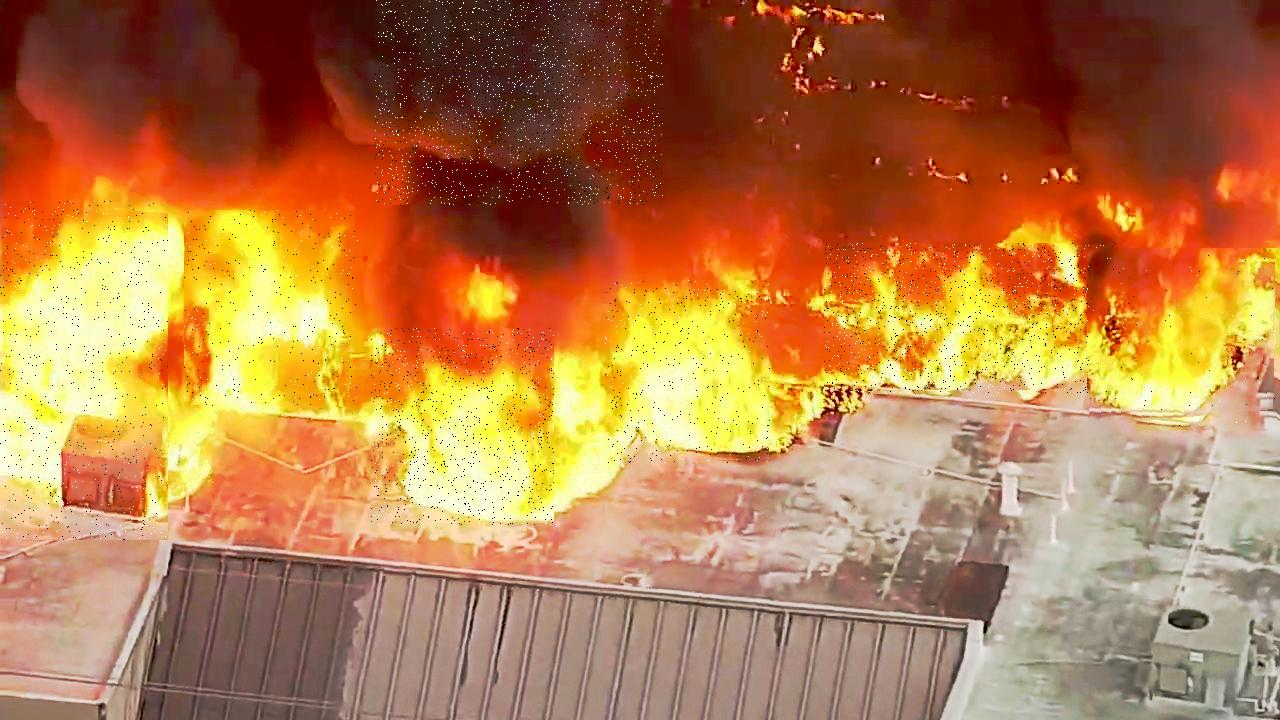fire: (0, 201, 168, 540), (825, 244, 1120, 394), (371, 329, 554, 526), (185, 210, 359, 407), (1090, 249, 1279, 430), (605, 280, 770, 463)
smoke: (375, 0, 663, 205)
